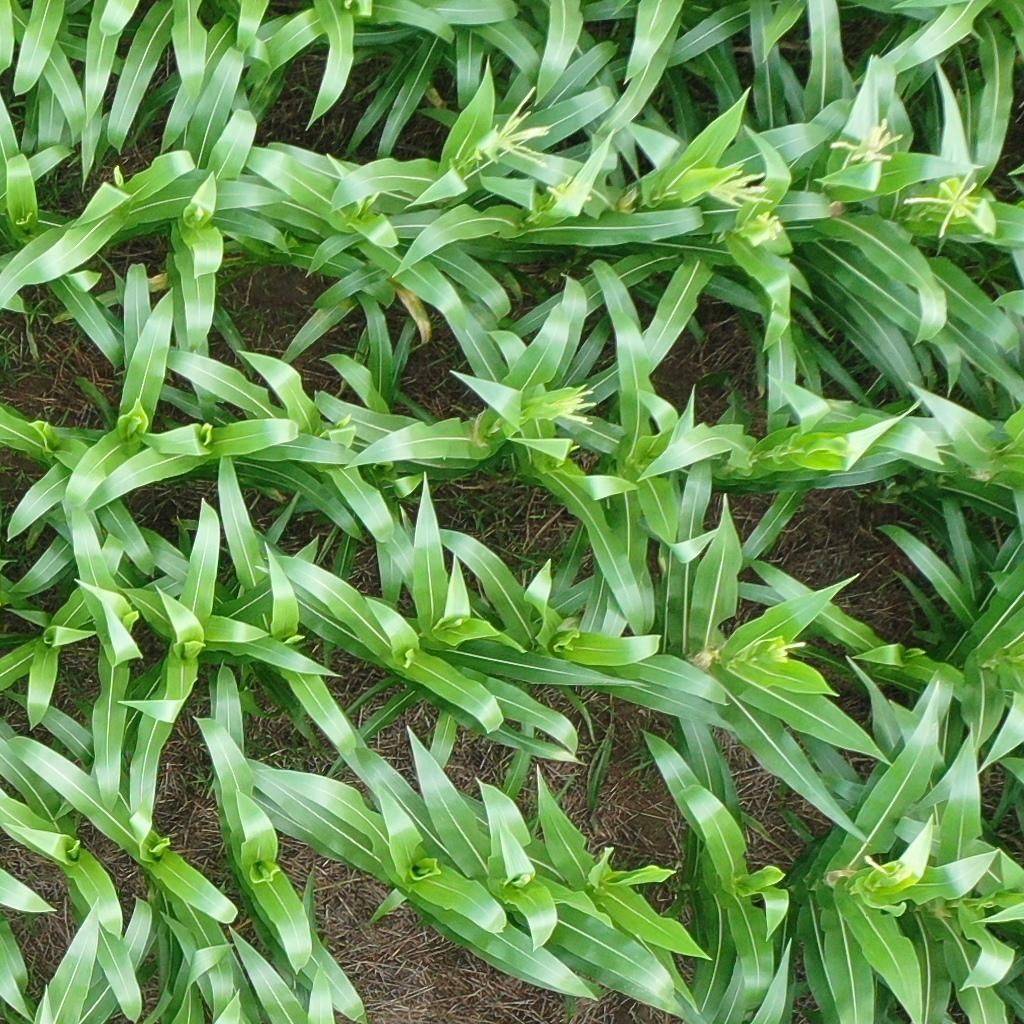Tassel: (475, 82, 552, 164), (902, 173, 994, 237), (825, 117, 906, 162), (704, 165, 775, 206), (533, 387, 599, 427), (544, 175, 589, 209), (754, 211, 783, 243), (775, 637, 810, 656)
